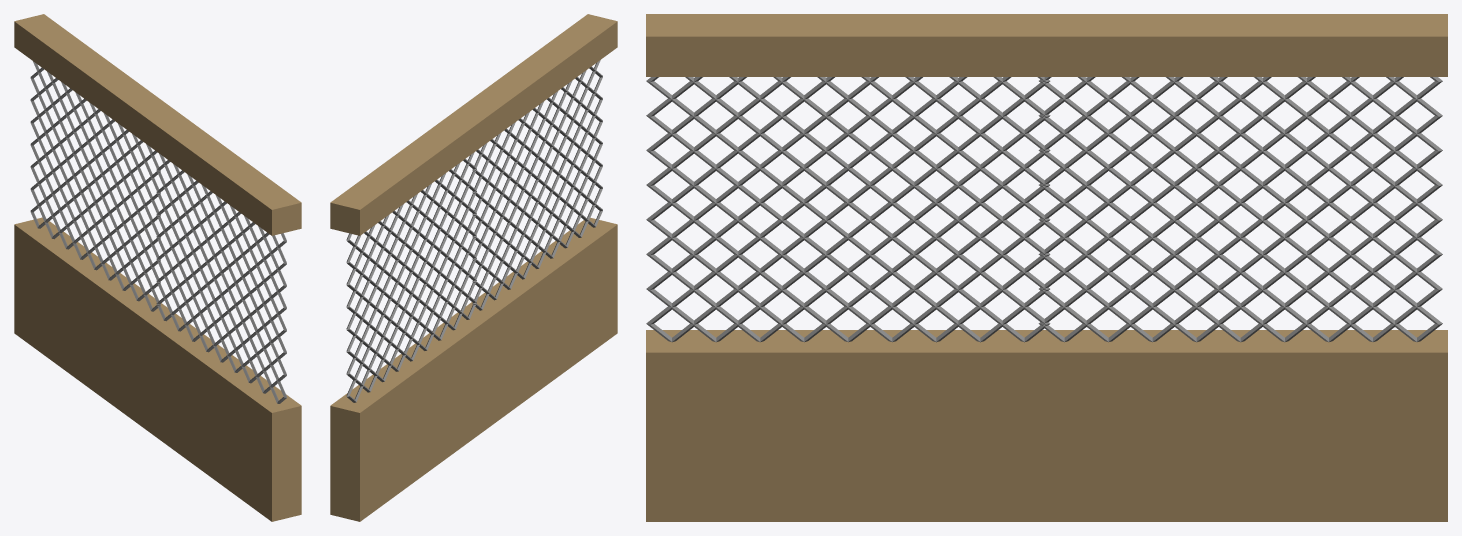
File: fence.fbx
3 renders of one model, left to right at view 1: azimuth 30°, elevation 25°; view 2: azimuth 150°, elevation 25°; view 3: azimuth 270°, elevation 25°, orthographic. The views are drawn at different scales.
Parts seen in each view (by area): view 1: fence; view 2: fence; view 3: fence.
Boxes of the visible parts, bbox=[...] form: fence: bbox=[14, 14, 301, 521]; fence: bbox=[330, 14, 617, 521]; fence: bbox=[646, 14, 1447, 521].
Bounding box in the file's own units: 0.2003 × 2 × 3.
